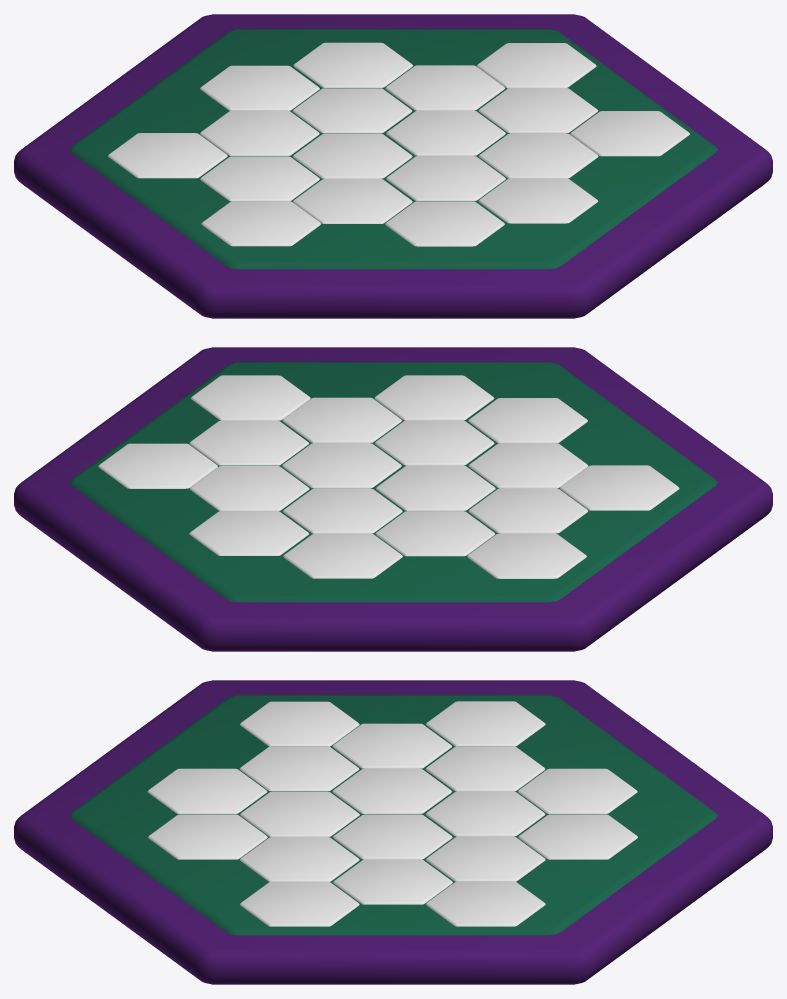
The model's file is HexStageTile1.glb.
3 renders of one model, top to bottom at view 1: azimuth 30°, elevation 25°; view 2: azimuth 150°, elevation 25°; view 3: azimuth 270°, elevation 25°, orthographic.
Parts seen in each view (by area): view 1: HexBase.001, HexBase.002, HexBase.005, HexBase.006, HexBase.013, HexBase.003, HexBase.007, HexBase.019, HexBase.012, HexBase.014, HexBase.020, HexBase.004 (+8 smaller); view 2: HexBase.001, HexBase.002, HexBase.018, HexBase.008, HexBase.015, HexBase.016, HexBase.004, HexBase.005, HexBase.007, HexBase.009, HexBase.012, HexBase.013 (+8 smaller); view 3: HexBase.001, HexBase.002, HexBase.015, HexBase.003, HexBase.013, HexBase.016, HexBase.006, HexBase.010, HexBase.011, HexBase.017, HexBase.004, HexBase.005 (+8 smaller).
Boxes of the visible parts, x1,y1,x2,y2 form: HexBase.001: (14,14,772,318); HexBase.002: (69,29,717,269); HexBase.005: (292,88,412,133); HexBase.006: (385,65,505,110); HexBase.013: (478,178,598,223); HexBase.003: (386,110,505,155); HexBase.007: (478,133,598,178); HexBase.019: (108,133,227,178); HexBase.012: (200,65,319,110); HexBase.014: (385,201,504,246); HexBase.020: (201,201,320,246); HexBase.004: (292,133,412,178); HexBase.001: (14,347,772,651); HexBase.002: (69,362,717,602); HexBase.018: (190,375,310,420); HexBase.008: (189,420,309,465); HexBase.015: (468,488,588,533); HexBase.016: (375,511,495,556); HexBase.004: (375,465,495,510); HexBase.005: (282,488,402,533); HexBase.007: (282,397,402,442); HexBase.009: (374,420,494,465); HexBase.012: (283,533,402,578); HexBase.013: (374,375,494,420); HexBase.001: (14,680,772,984); HexBase.002: (69,695,717,935); HexBase.015: (332,723,452,768); HexBase.003: (332,814,452,859); HexBase.013: (148,814,267,859); HexBase.016: (425,746,545,791); HexBase.006: (425,836,545,881); HexBase.010: (239,746,359,791); HexBase.011: (518,814,637,859); HexBase.017: (425,881,545,926); HexBase.004: (332,768,452,813); HexBase.005: (425,791,545,836).
Bounding box in the file's own units: 5.97 × 0.3864 × 6.82.
